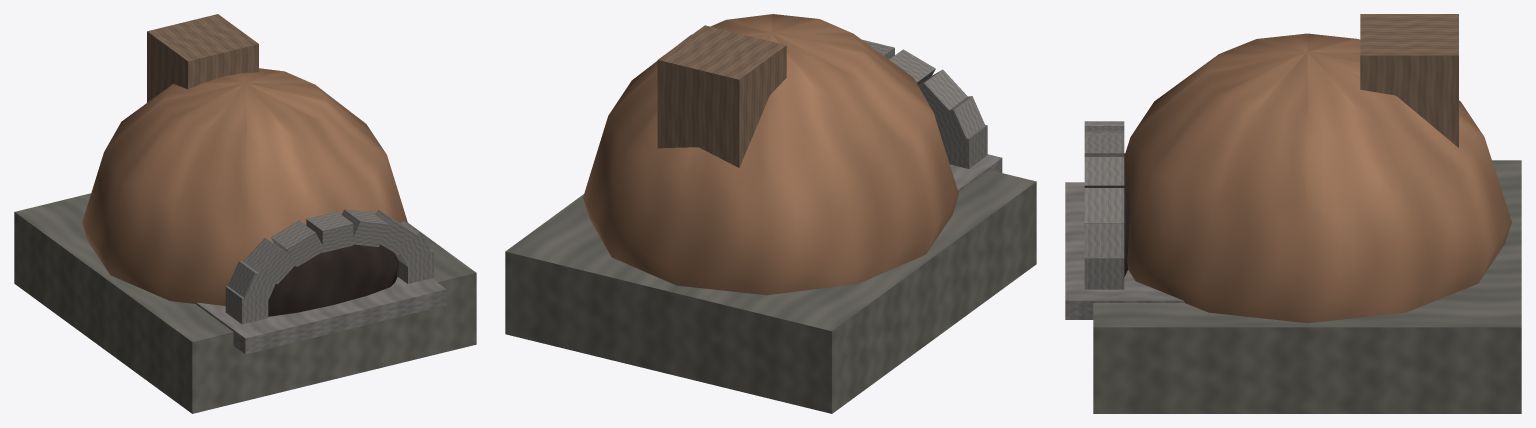
File: oven.glb
3 views of the same model, side by side, from view 1: azimuth 30°, elevation 25°; view 2: azimuth 150°, elevation 25°; view 3: azimuth 270°, elevation 25° (orthographic). The views are drawn at different scales.
Visible parts, largest first — view 1: oven; view 2: oven; view 3: oven.
Boxes of the visible parts, x1=… form: oven: x1=14, y1=14, x2=476, y2=413; oven: x1=505, y1=14, x2=1036, y2=413; oven: x1=1065, y1=14, x2=1521, y2=413.
Bounding box in the file's own units: 1.35 × 1.35 × 1.56.
Materials: 1 (1 with a texture image).
